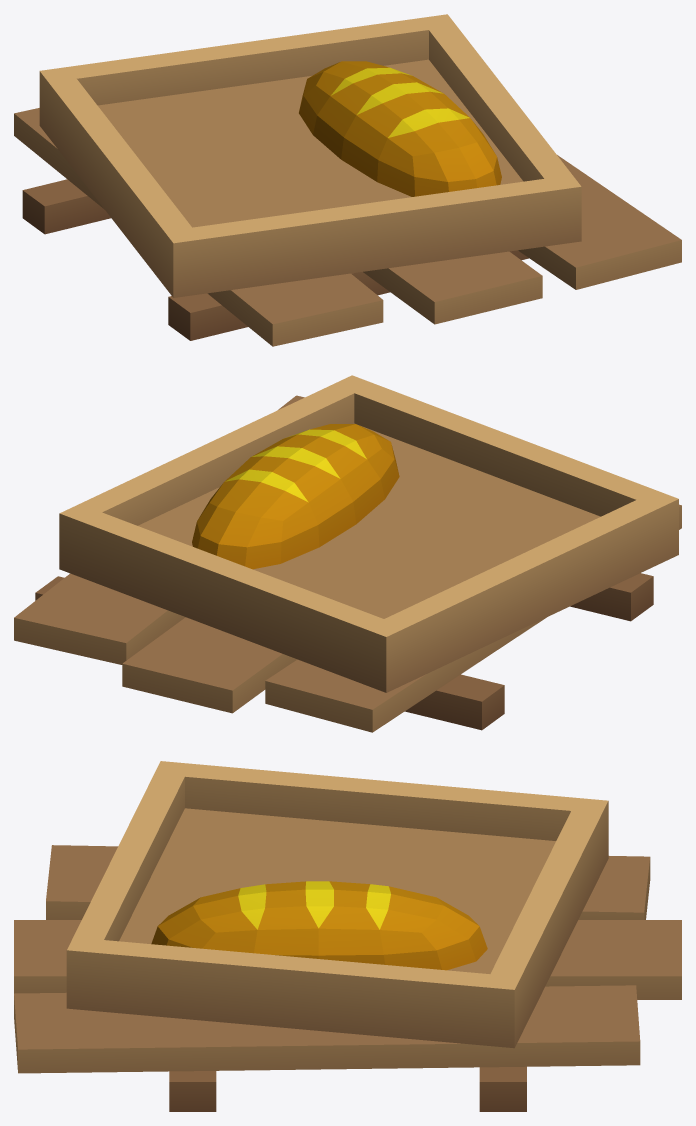
File: box with bread.fbx
The picture shows the model from 3 angles, top to bottom: view 1: azimuth 30°, elevation 25°; view 2: azimuth 150°, elevation 25°; view 3: azimuth 270°, elevation 25°; orthographic projection. The views are drawn at different scales.
Visible parts, largest first — view 1: box_with_bread, bread; view 2: box_with_bread, bread; view 3: box_with_bread, bread.
Boxes of the visible parts, box(x1,y1,x2,y2) form: box_with_bread: box(14, 14, 681, 346); bread: box(299, 61, 501, 196); box_with_bread: box(14, 375, 681, 732); bread: box(192, 424, 399, 569); box_with_bread: box(14, 761, 681, 1111); bread: box(151, 881, 487, 970).
Bounding box in the file's own units: 296 × 81.4 × 350.
Materials: 1 (1 with a texture image).
